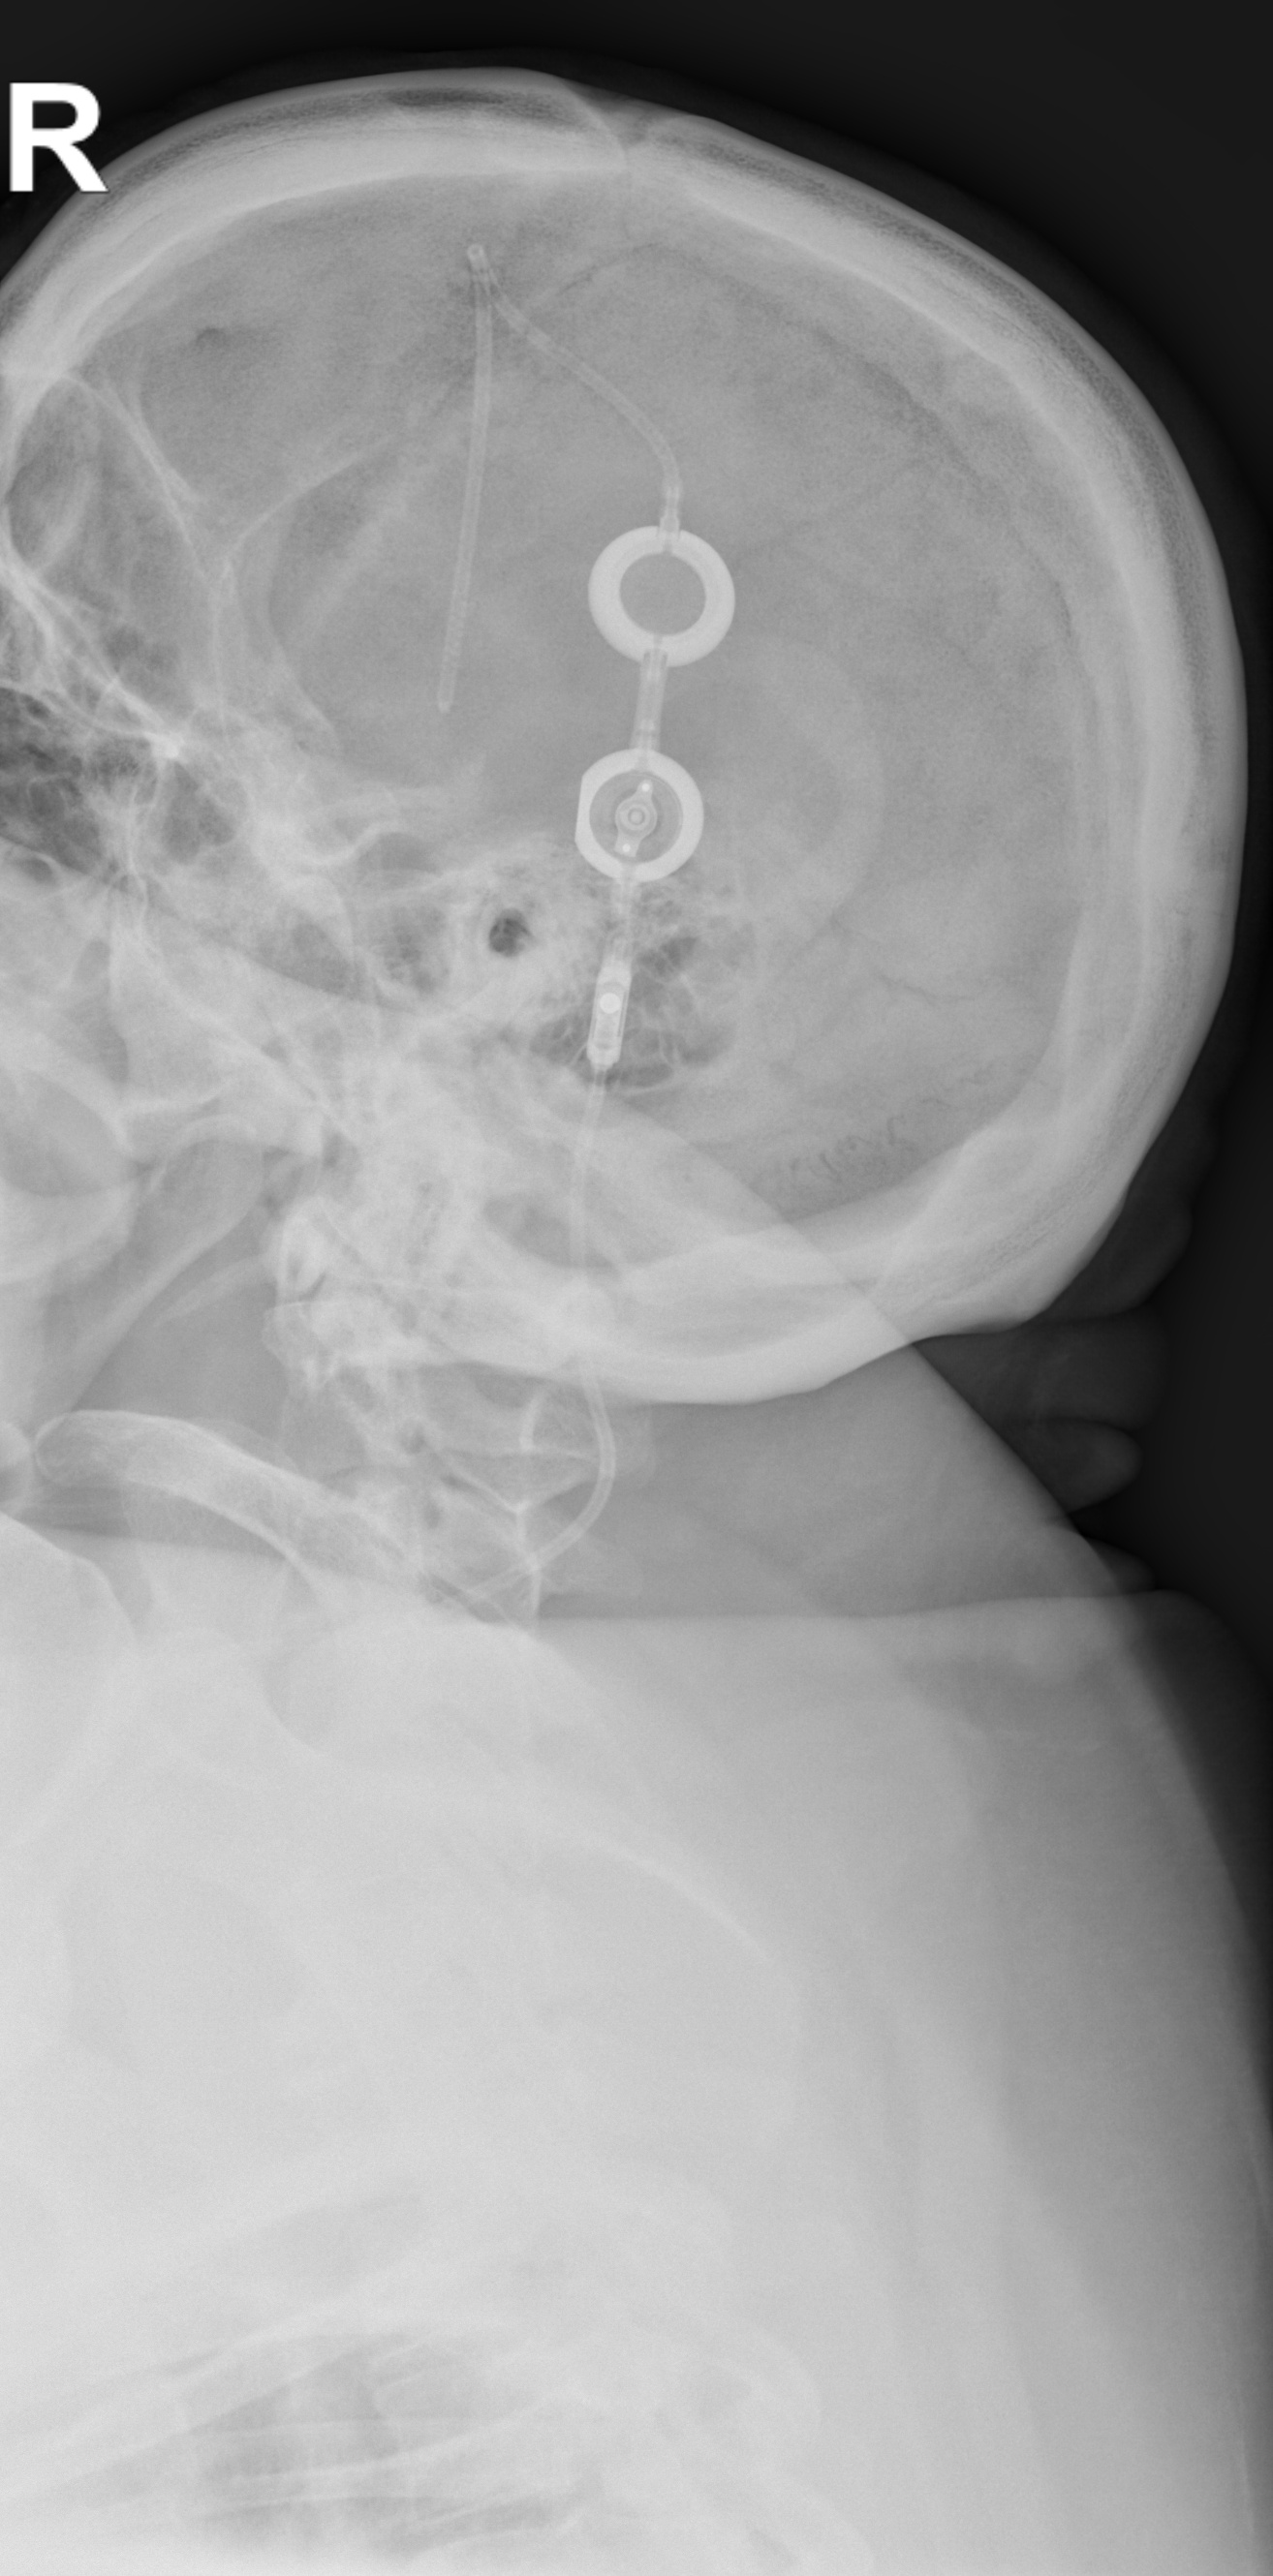proGAV: (565, 739, 710, 887)
proGAV Gravitationseinheit: (581, 930, 637, 1078)
